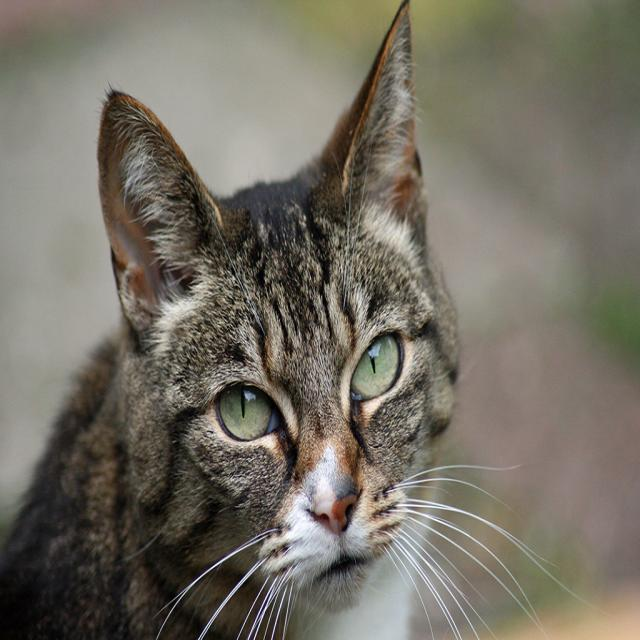Cat: (0, 0, 608, 638)
